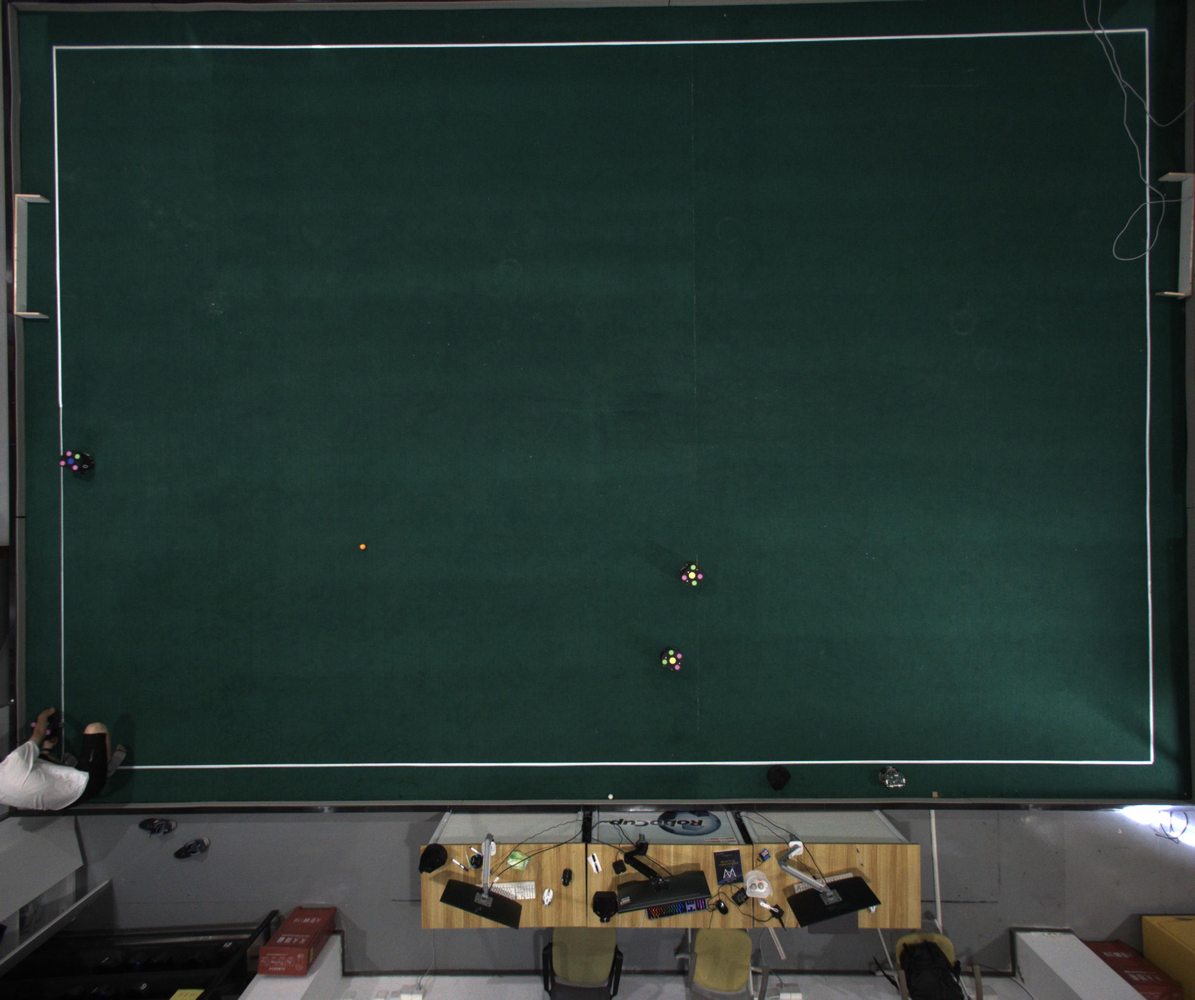ball: (360, 543, 366, 550)
blue_bot: (59, 448, 83, 474)
yellow_bot: (680, 563, 705, 589), (661, 647, 684, 673)
